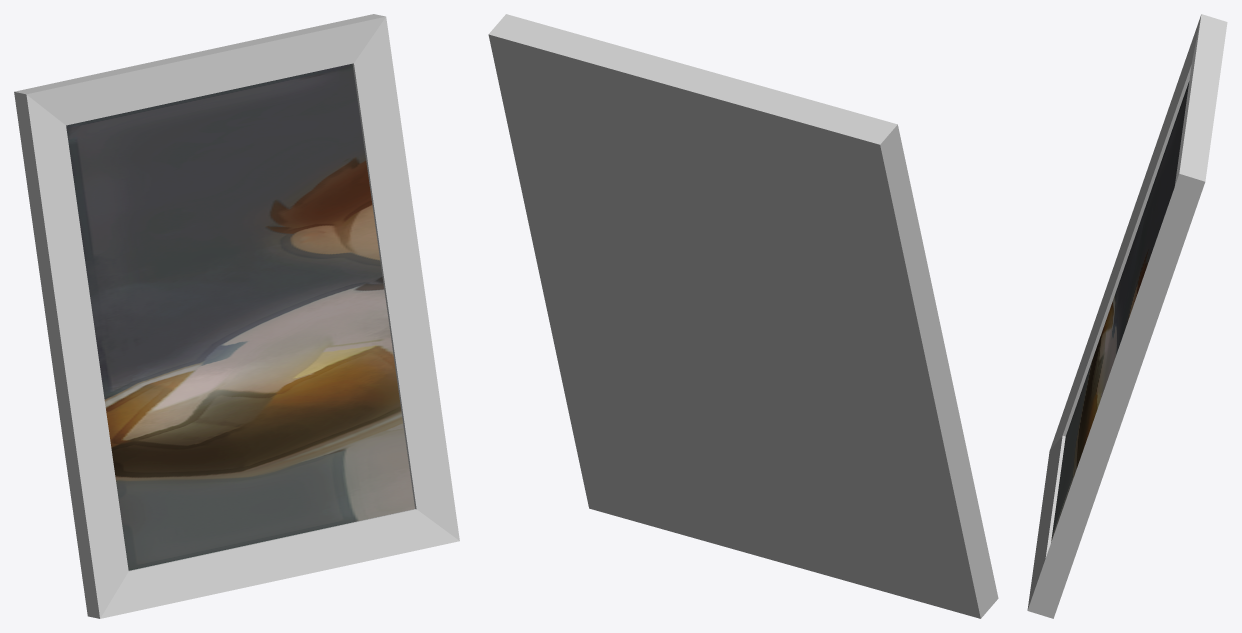
Rendered from PhotoCutscene.fbx.
3 views of the same model, side by side, from view 1: azimuth 30°, elevation 25°; view 2: azimuth 150°, elevation 25°; view 3: azimuth 270°, elevation 25° (orthographic). The views are drawn at different scales.
Visible parts, largest first — view 1: Obj_Photo, Obj_PhotoFrame.001; view 2: Obj_PhotoFrame.001; view 3: Obj_PhotoFrame.001, Obj_Photo.
Part boxes in pixels (<box>): Obj_Photo: <box>66,63,414,570</box>; Obj_PhotoFrame.001: <box>14,14,459,618</box>; Obj_PhotoFrame.001: <box>488,14,998,618</box>; Obj_PhotoFrame.001: <box>1027,14,1227,618</box>; Obj_Photo: <box>1051,81,1189,542</box>.
Bounding box in the file's own units: 58.43 × 30 × 74.28.
